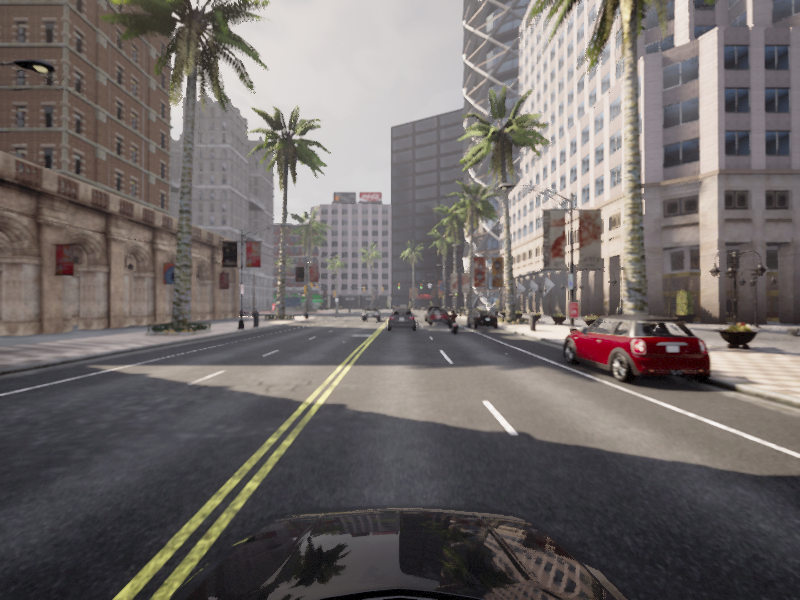vehicle: (386, 307, 416, 331), (426, 307, 451, 325), (445, 309, 461, 335), (390, 307, 413, 322), (361, 305, 381, 322), (424, 305, 443, 322)
